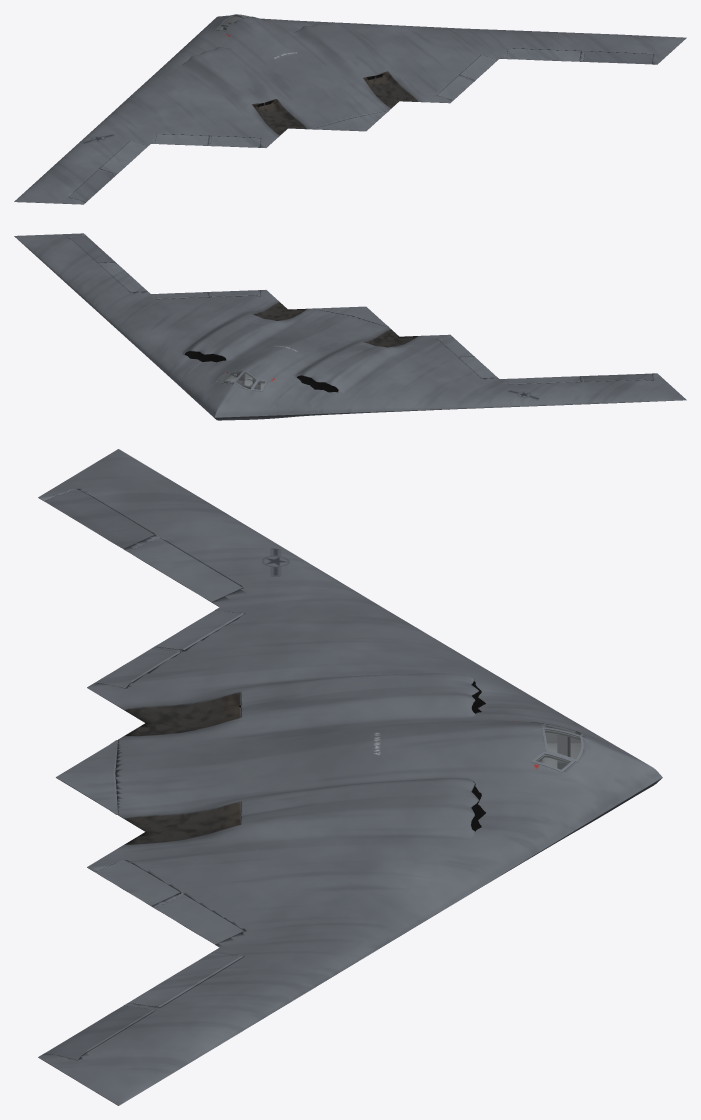
3 renders of one model, top to bottom at view 1: azimuth 30°, elevation 25°; view 2: azimuth 150°, elevation 25°; view 3: azimuth 270°, elevation 25°, orthographic. The views are drawn at different scales.
Visible parts, largest first — view 1: B2_skin, elev_o_r, split_u_r, elev_o_l, tail, split_u_l, elev_m_l, elev_i_l, elev_m_r, elev_i_r; view 2: B2_skin, elev_o_r, tail, split_u_r, elev_o_l, split_u_l, elev_m_l, B2_glass, elev_i_l, elev_m_r; view 3: B2_skin, elev_o_l, split_u_l, tail, elev_o_r, split_u_r, elev_m_r, elev_i_r, elev_m_l, elev_i_l, B2_glass.
Boxes of the visible parts, x1=… form: B2_skin: x1=14, y1=14, x2=686, y2=204; elev_o_r: x1=506, y1=48, x2=580, y2=61; split_u_r: x1=583, y1=51, x2=653, y2=64; elev_o_l: x1=99, y1=140, x2=147, y2=174; tail: x1=312, y1=110, x2=388, y2=131; split_u_l: x1=68, y1=170, x2=114, y2=202; elev_m_l: x1=155, y1=134, x2=208, y2=145; elev_i_l: x1=210, y1=136, x2=260, y2=147; elev_m_r: x1=459, y1=54, x2=497, y2=80; elev_i_r: x1=437, y1=76, x2=473, y2=100; B2_skin: x1=14, y1=233, x2=686, y2=420; elev_o_r: x1=99, y1=263, x2=147, y2=292; tail: x1=313, y1=306, x2=388, y2=327; split_u_r: x1=68, y1=235, x2=114, y2=262; elev_o_l: x1=507, y1=376, x2=580, y2=384; split_u_l: x1=583, y1=373, x2=653, y2=381; elev_m_l: x1=459, y1=357, x2=497, y2=378; B2_glass: x1=219, y1=372, x2=264, y2=389; elev_i_l: x1=437, y1=337, x2=473, y2=356; elev_m_r: x1=155, y1=292, x2=208, y2=298; B2_skin: x1=38, y1=449, x2=662, y2=1105; elev_o_l: x1=128, y1=537, x2=242, y2=602; split_u_l: x1=44, y1=489, x2=154, y2=548; tail: x1=56, y1=740, x2=117, y2=814; elev_o_r: x1=128, y1=952, x2=242, y2=1007; split_u_r: x1=45, y1=1006, x2=154, y2=1059; elev_m_r: x1=154, y1=894, x2=243, y2=944; elev_i_r: x1=95, y1=860, x2=180, y2=905; elev_m_l: x1=155, y1=610, x2=243, y2=650; elev_i_l: x1=95, y1=648, x2=180, y2=688; B2_glass: x1=537, y1=725, x2=580, y2=768.
Size of the model in its own units: 52.18 by 3.28 by 20.99.
2 materials, 1 textured.
